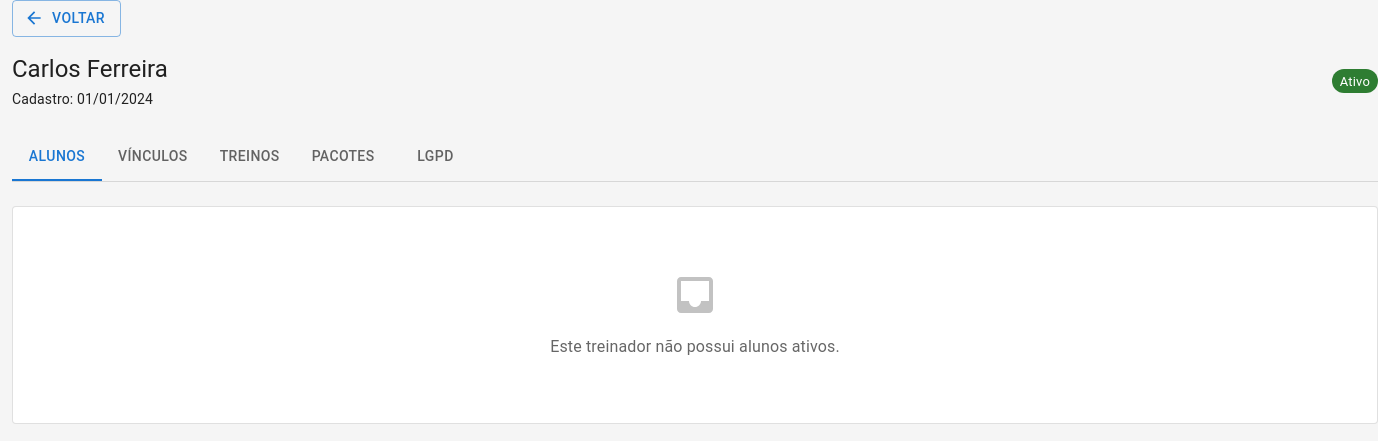
DetalheTreinadorAdminPage — tabs e pacotes › tab Vínculos → mostra empty state de vínculos
Expected: the heading "Carlos Ferreira" is shown, [12,52,168,84]
What coordinates should you click on to do the following:
click the tab "Vínculos"
I would click on:
 (153, 156)
Its box is [102,132,204,180].
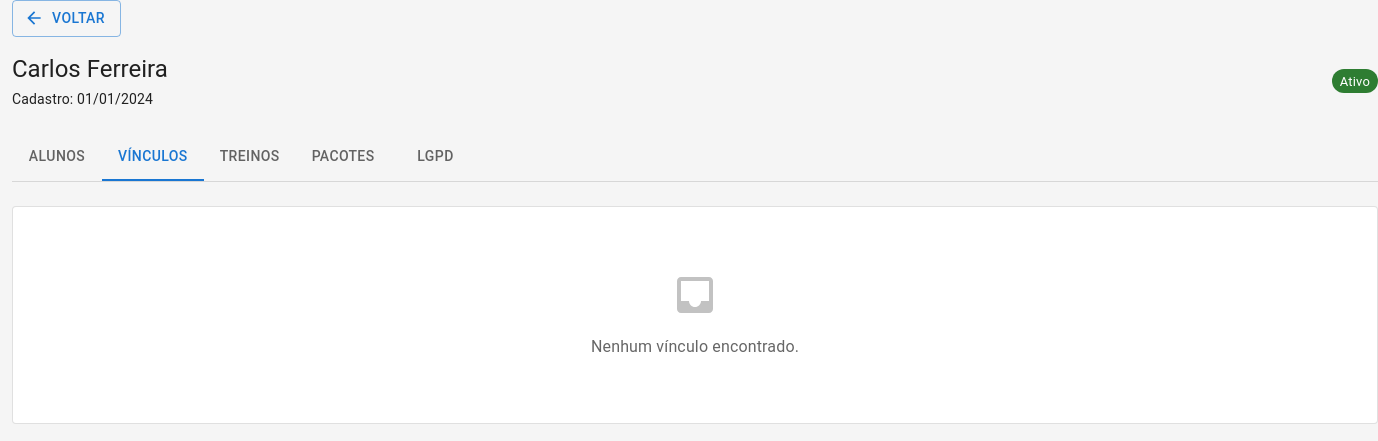
Now the text "Nenhum vínculo encontrado." is shown, box [591,334,799,358]
